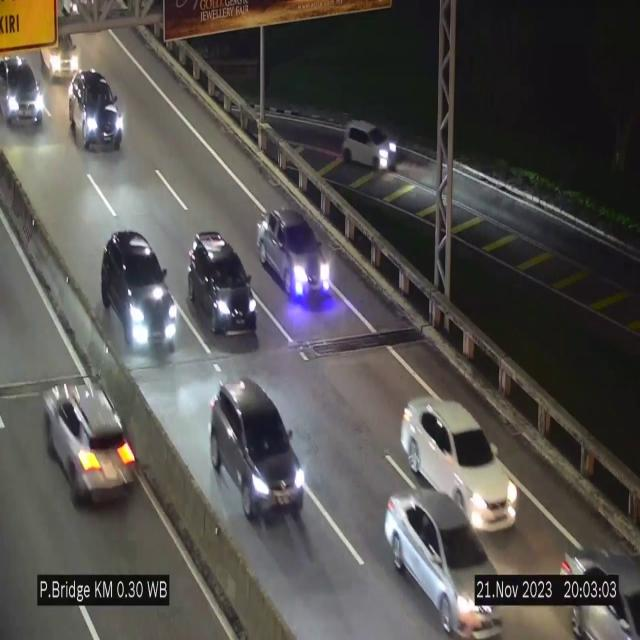Car: (382, 486, 504, 640), (32, 364, 146, 516), (402, 398, 518, 528), (209, 375, 305, 532), (99, 226, 178, 351), (550, 536, 640, 640), (184, 226, 259, 340), (255, 204, 332, 304), (66, 70, 126, 149), (0, 55, 46, 134), (338, 116, 400, 172), (38, 21, 88, 87)
